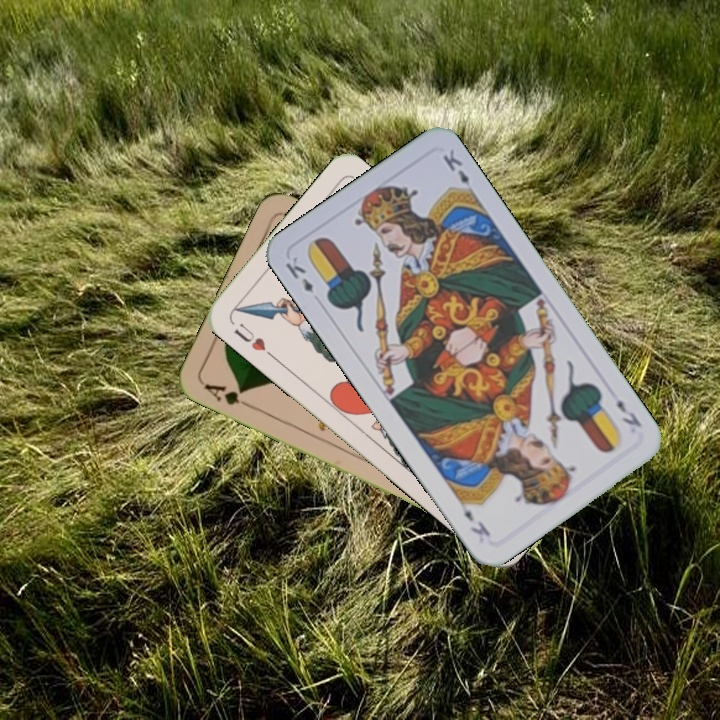EK: (281, 252, 316, 295), (612, 395, 645, 430)
GA: (200, 379, 256, 412)
HU: (229, 319, 277, 361)
